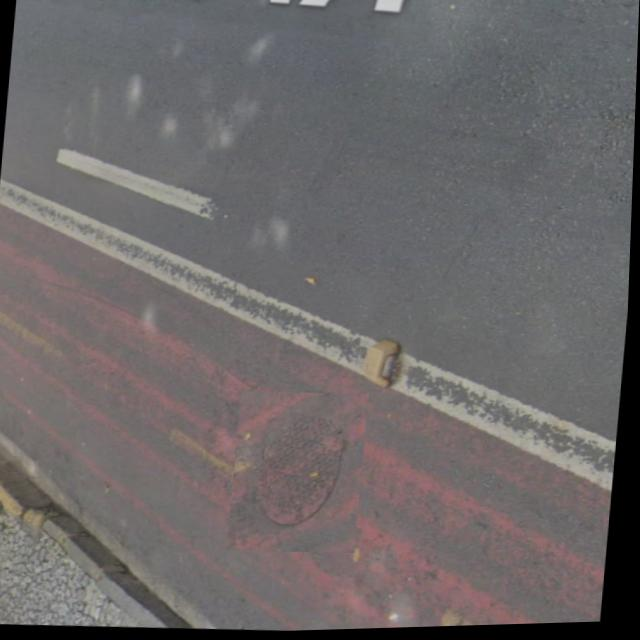Bueiro: (231, 389, 372, 557)
